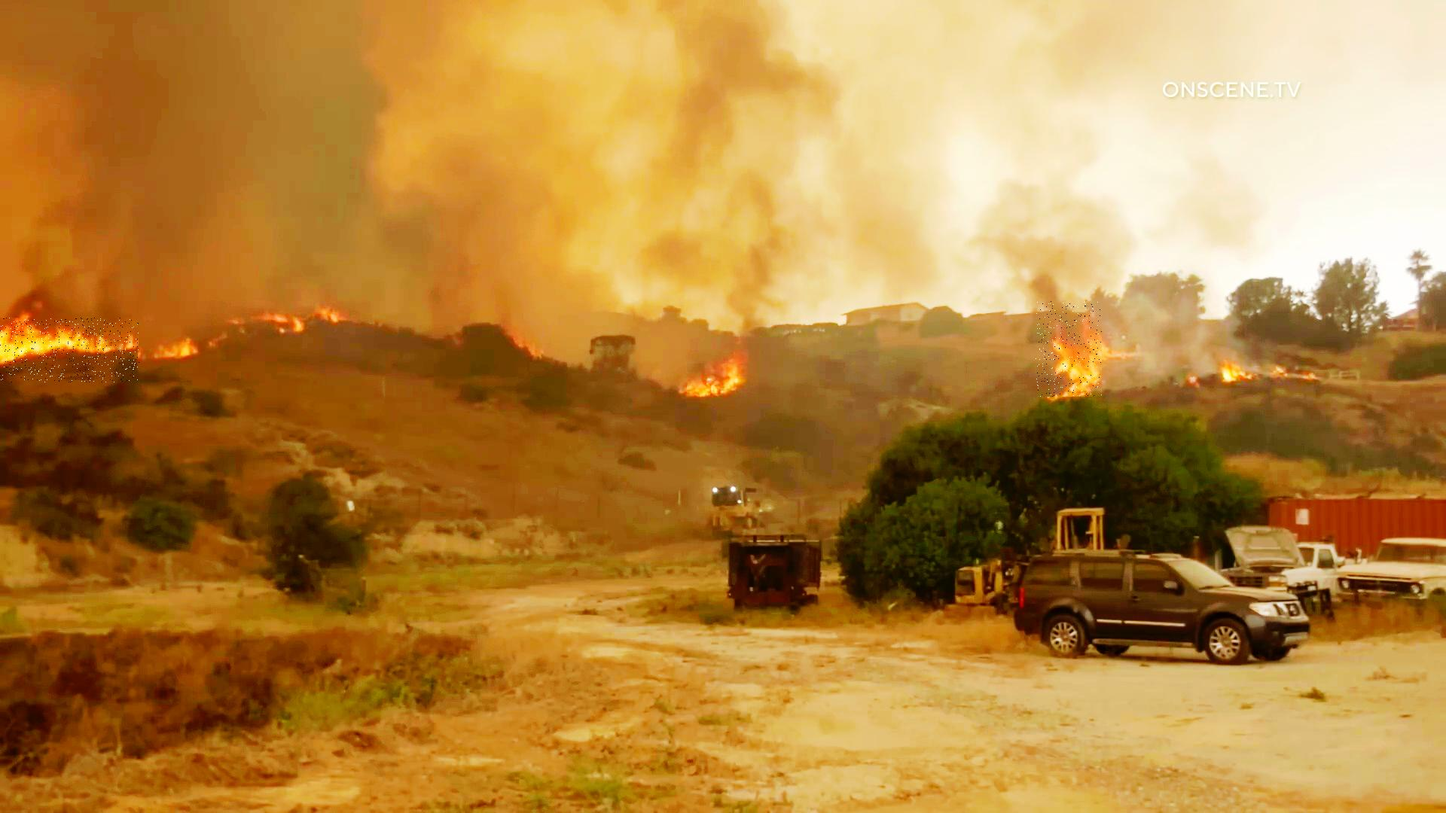fire: (0, 318, 139, 382), (1036, 301, 1102, 397), (688, 364, 752, 407)
